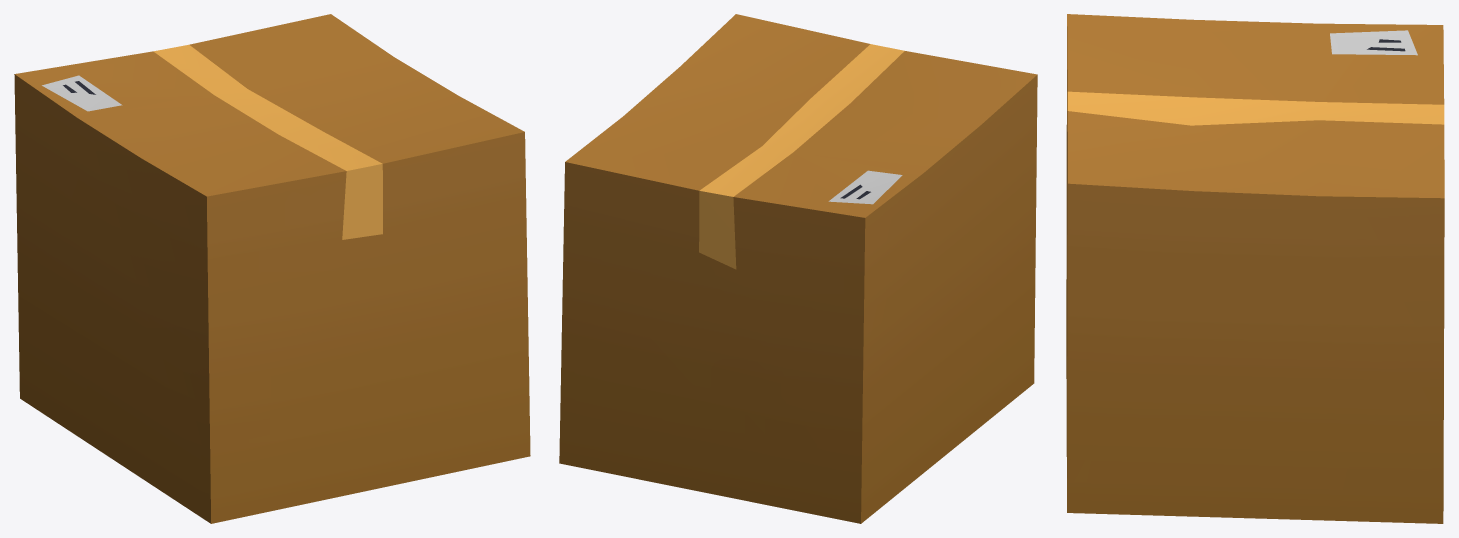
The picture shows the model from 3 angles, left to right: view 1: azimuth 30°, elevation 25°; view 2: azimuth 150°, elevation 25°; view 3: azimuth 270°, elevation 25°; orthographic projection. The views are drawn at different scales.
Visible parts, largest first — view 1: Box_1; view 2: Box_1; view 3: Box_1.
Boxes of the visible parts, x1,y1,x2,y2 form: Box_1: (14,14,530,523); Box_1: (559,14,1037,523); Box_1: (1066,14,1444,523).
Size of the model in its own units: 47.02 by 48.14 by 46.65.
